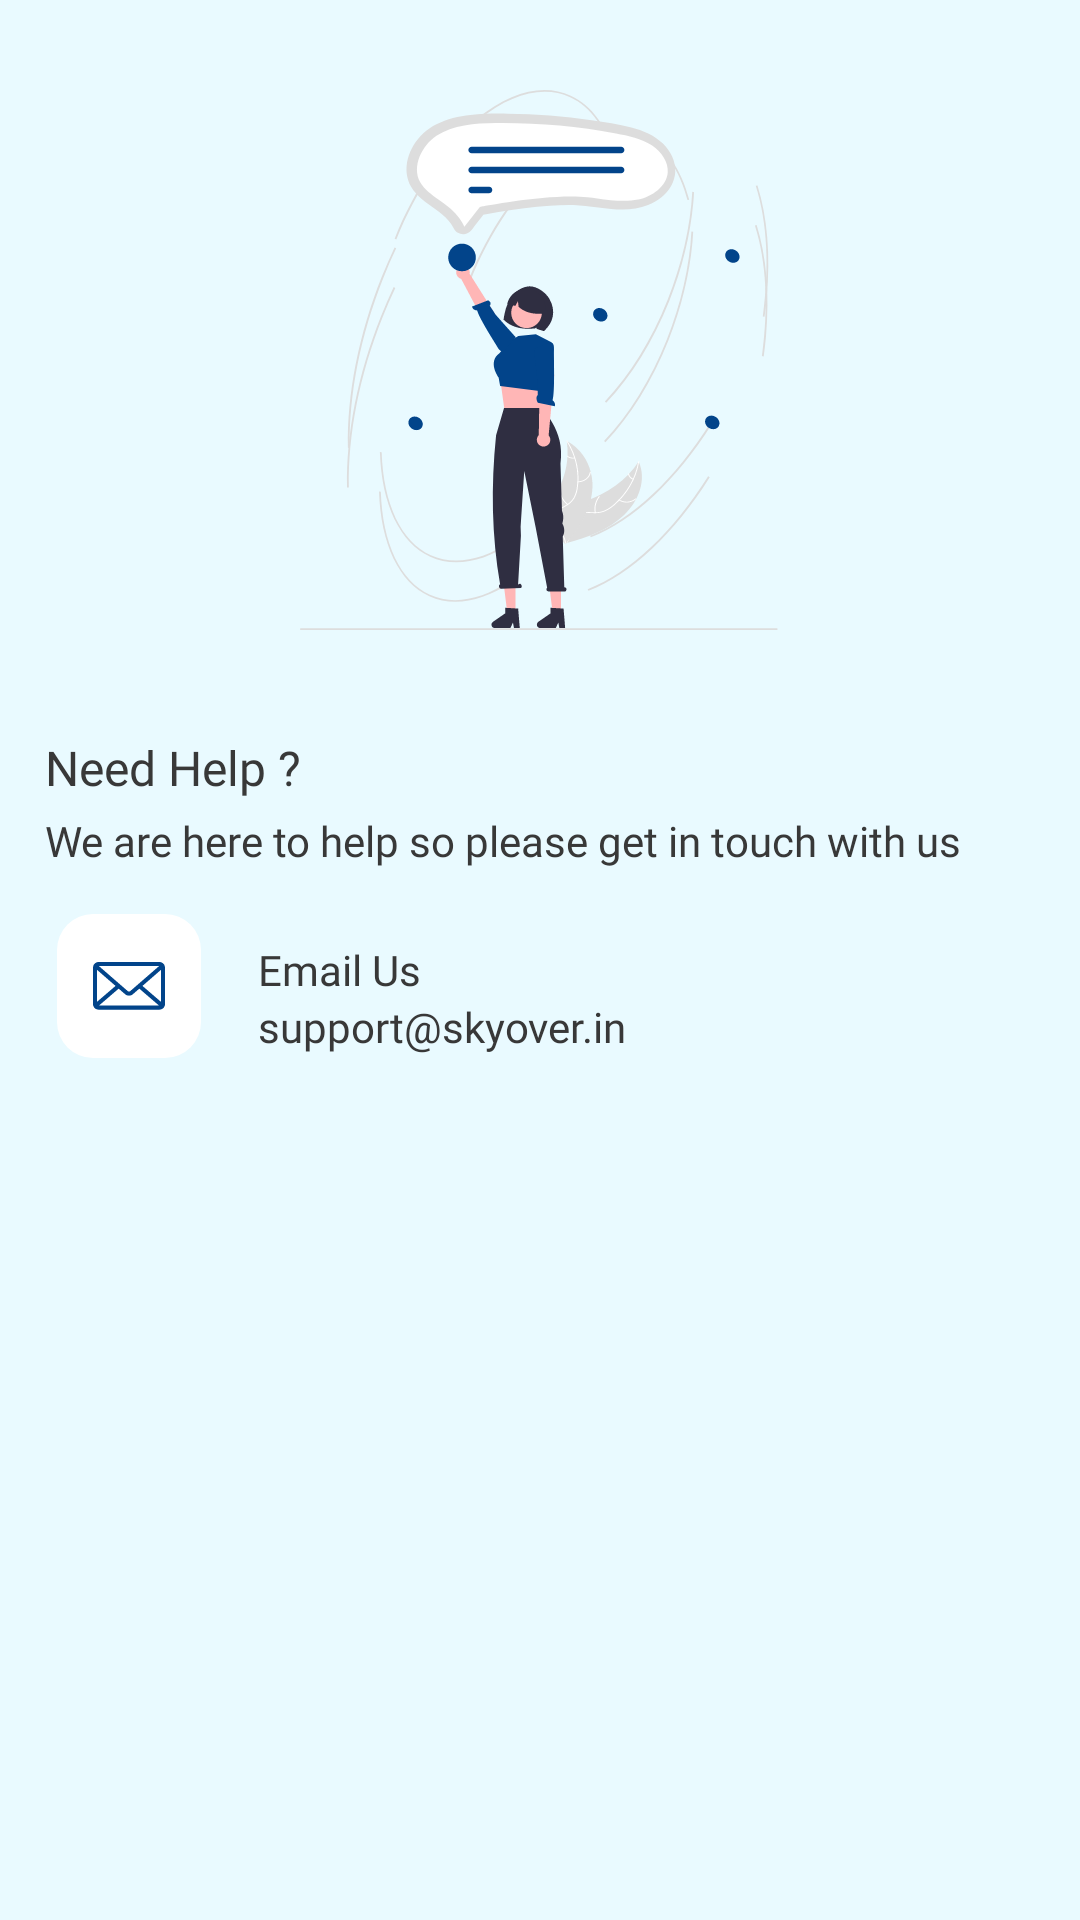

Where icons sit on this 1080px x 1920px app screen, as (x1, y1, x2, y2):
support email: (57, 914, 201, 1058)
